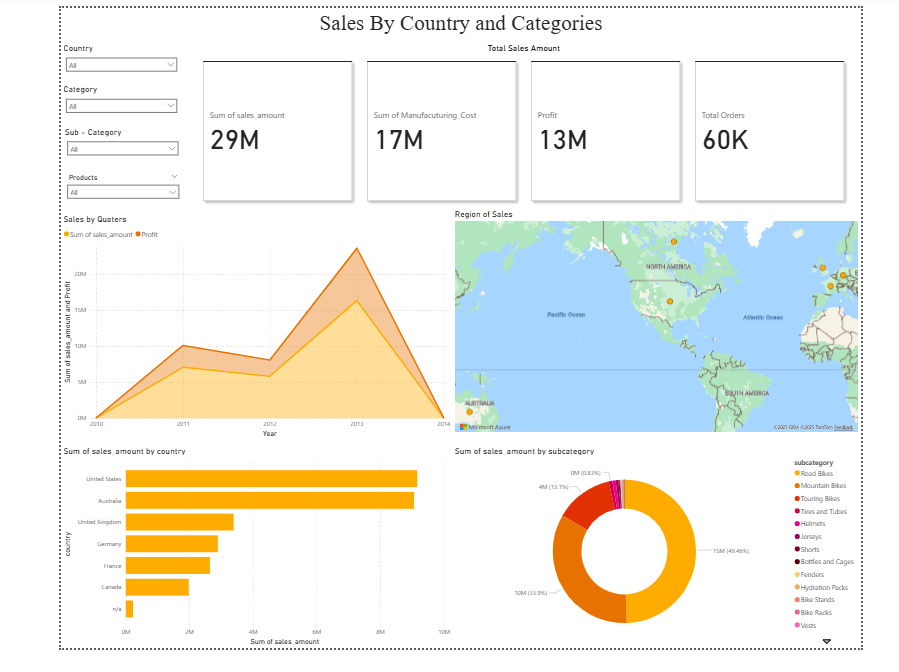

What the dashboard file says about the page in this screenshot:
{"tool":"powerbi","page":{"name":"Complete Sales","canvas":[1600,1280],"ordinal":0},"visuals":[{"type":"azureMap","title":"Region of Sales","fields":{"Category":["gold dim_customers.country"]},"box":[783.3,403.3,816.7,451.7],"z":0},{"type":"slicer","title":"Country","fields":{"Values":["gold dim_customers.country"]},"box":[0,70,241.7,100],"z":1000},{"type":"textbox","box":[0,0,1600,62],"z":2000},{"type":"stackedAreaChart","title":"Sales by Quaters","fields":{"Y":["Sum(gold fact_sales.sales_amount)","gold fact_sales.Profit"],"Category":["gold fact_sales.order_date.Variation.Date Hierarchy.Year","gold fact_sales.order_date.Variation.Date Hierarchy.Quarter","gold fact_sales.order_date.Variation.Date Hierarchy.Month"]},"box":[0,413.3,783.3,451.7],"z":3000},{"type":"cardVisual","title":"Total Sales Amount","fields":{"Data":["Sum(gold fact_sales.sales_amount)","Sum(gold fact_sales.Manufacuturing_Cost)","gold fact_sales.Profit","gold fact_sales.Total Orders"]},"box":[266.7,70,1316.7,333.3],"z":4000},{"type":"slicer","title":"Category","fields":{"Values":["gold dim_products.category"]},"box":[0,153.3,241.7,100],"z":5000},{"type":"slicer","title":"Sub - Category","fields":{"Values":["gold dim_products.subcategory"]},"box":[1.7,236.7,241.7,75],"z":6000},{"type":"slicer","title":"Products","fields":{"Values":["gold dim_products.product_name"]},"box":[1.7,325,243.3,78.3],"z":7000},{"type":"clusteredBarChart","title":"Sales Amount by Countries","fields":{"Y":["Sum(gold fact_sales.sales_amount)"],"Category":["gold dim_customers.country"]},"box":[0,875,783,405],"z":8000},{"type":"donutChart","title":"Sales by Sub Categories","fields":{"Category":["gold dim_products.subcategory"],"Y":["Sum(gold fact_sales.sales_amount)"]},"box":[783,875,817,405],"z":9000}]}

Visuals, with their boxes on the page's 1600x1280 design canvas (x1, y1, x2, y2). These are canvas units, not pixel positions in the 899x672 screenshot, which may show the page scaled, cropped or inside an application window:
"Region of Sales" azureMap: x1=783 y1=403 x2=1600 y2=855
"Country" slicer: x1=0 y1=70 x2=242 y2=170
textbox: x1=0 y1=0 x2=1600 y2=62
"Sales by Quaters" stackedAreaChart: x1=0 y1=413 x2=783 y2=865
"Total Sales Amount" cardVisual: x1=267 y1=70 x2=1583 y2=403
"Category" slicer: x1=0 y1=153 x2=242 y2=253
"Sub - Category" slicer: x1=2 y1=237 x2=243 y2=312
"Products" slicer: x1=2 y1=325 x2=245 y2=403
"Sales Amount by Countries" clusteredBarChart: x1=0 y1=875 x2=783 y2=1280
"Sales by Sub Categories" donutChart: x1=783 y1=875 x2=1600 y2=1280
